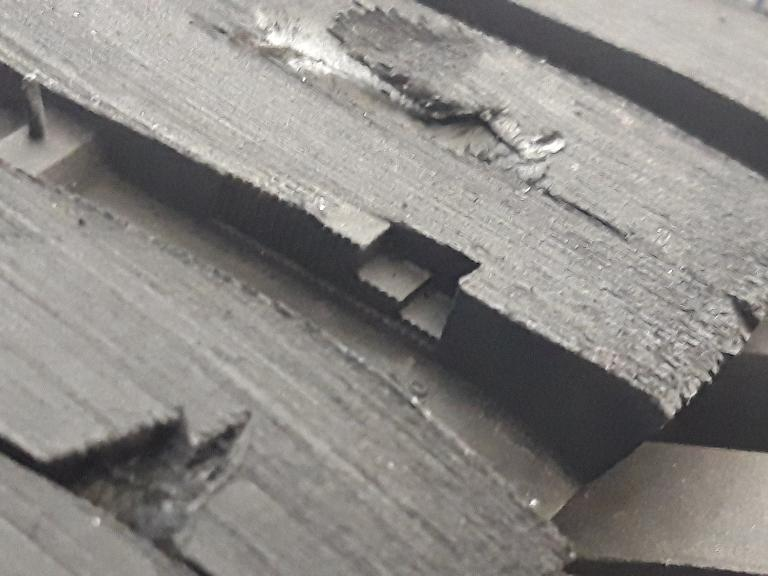temoin:50: (292, 183, 492, 370)
